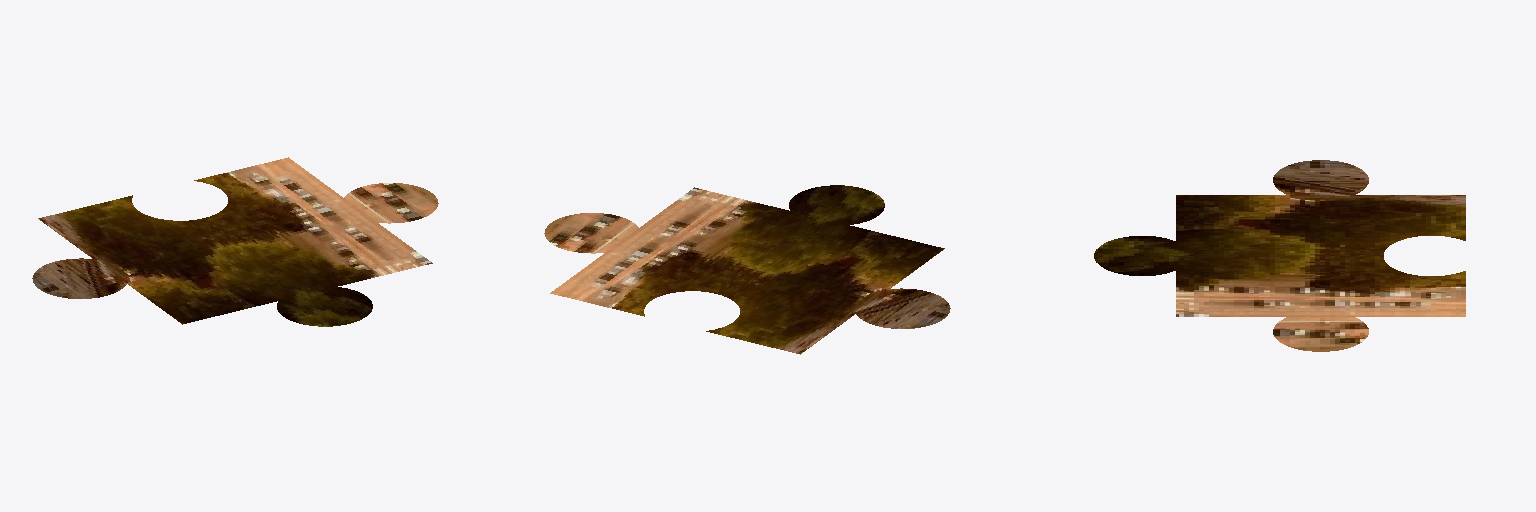
3 views of the same model, side by side, from view 1: azimuth 30°, elevation 25°; view 2: azimuth 150°, elevation 25°; view 3: azimuth 270°, elevation 25° (orthographic).
Parts seen in each view (by area): view 1: ͼ��046; view 2: ͼ��046; view 3: ͼ��046.
Boxes of the visible parts, x1=… form: ͼ��046: x1=32, y1=157, x2=438, y2=326; ͼ��046: x1=544, y1=185, x2=950, y2=354; ͼ��046: x1=1094, y1=160, x2=1465, y2=351.
Size of the model in its own units: 47.01 by 0 by 38.5.
Materials: 1 (1 with a texture image).